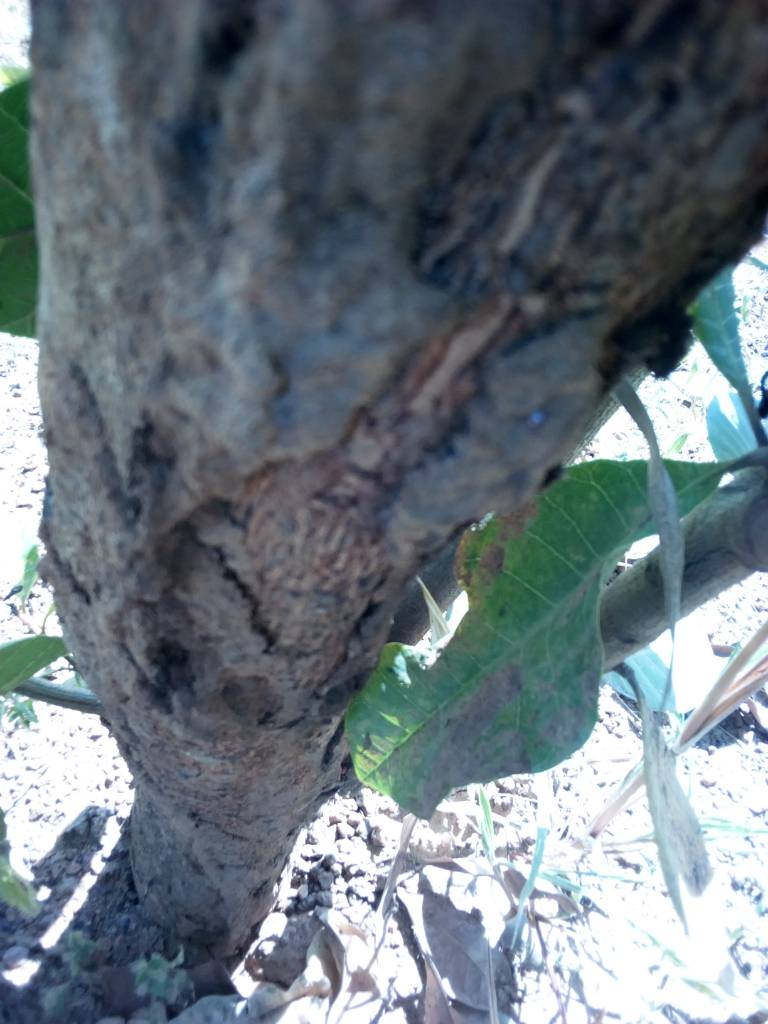Termites: (160, 586, 305, 927)
